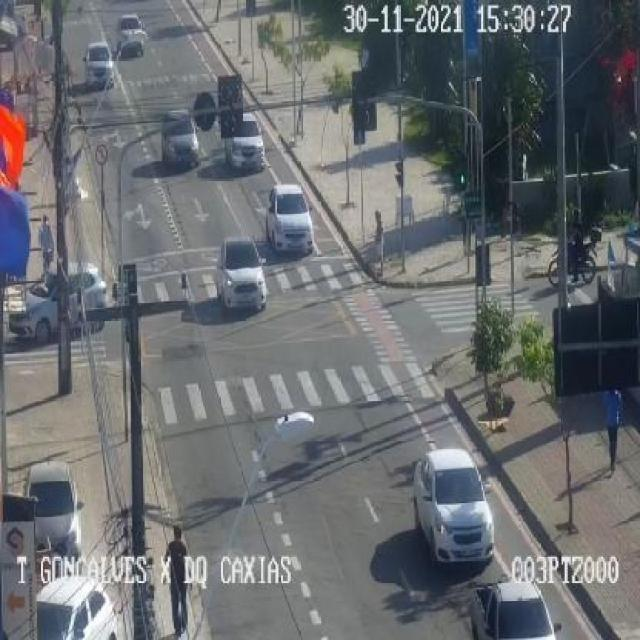Car: (413, 449, 494, 563), (25, 462, 83, 561), (36, 577, 118, 639), (470, 580, 556, 639), (215, 236, 268, 309), (266, 184, 313, 253), (160, 111, 200, 168), (226, 112, 264, 171), (83, 41, 114, 88), (117, 14, 148, 55)
